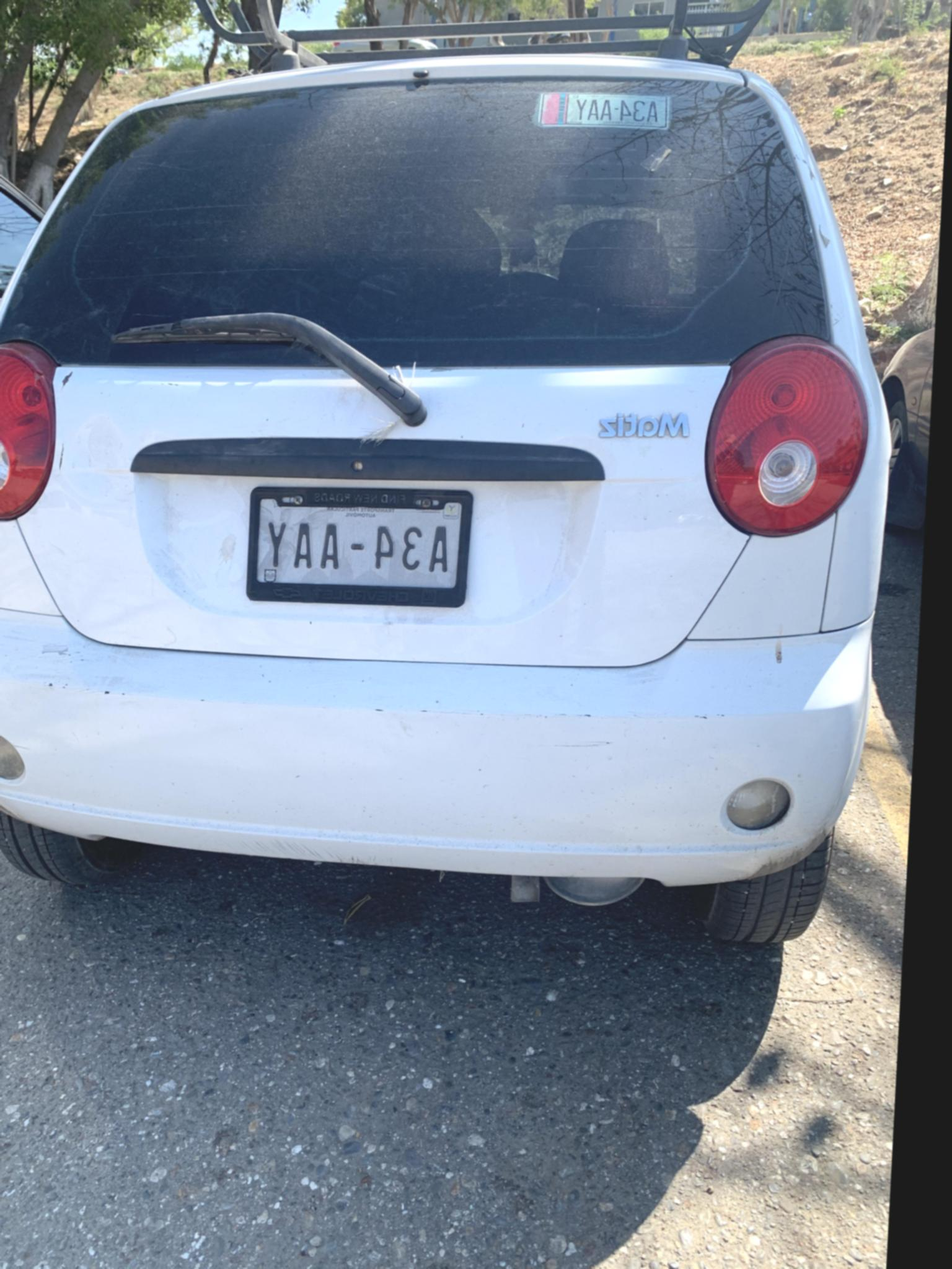License_Plate: (226, 482, 506, 620)
